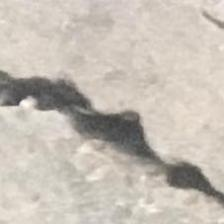Crack: (0, 79, 224, 211)
